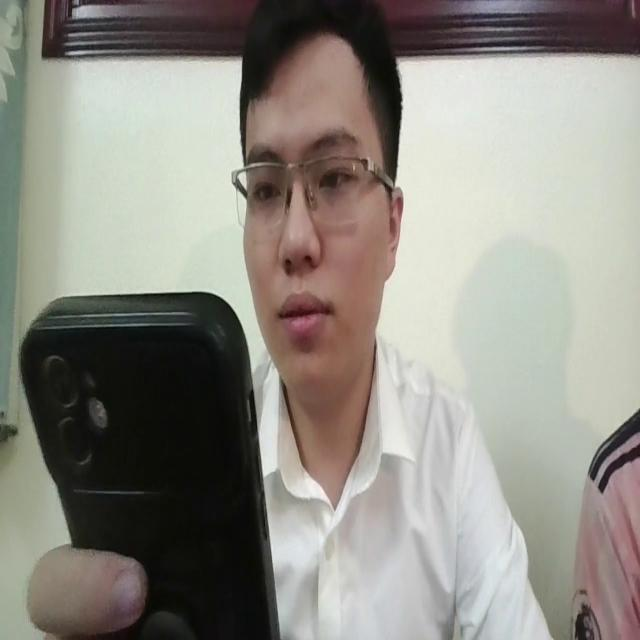phone: (18, 290, 280, 640)
student: (236, 0, 552, 640)
